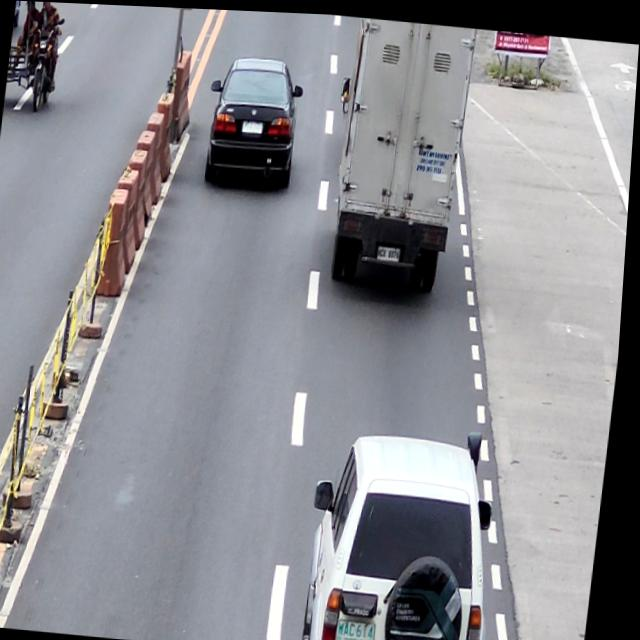Car: (302, 423, 516, 640), (203, 48, 308, 192)
License-Plate: (343, 617, 385, 640), (380, 242, 405, 260), (243, 118, 265, 133)
Truck: (322, 13, 477, 293)
